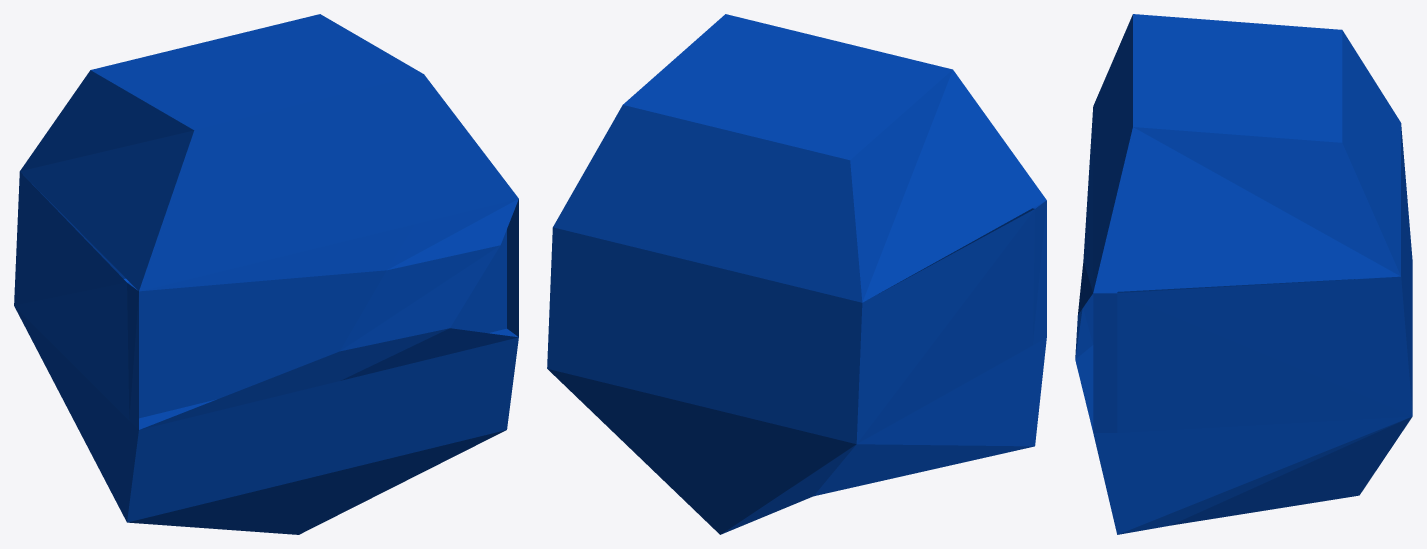
Rendered from head.dae.
3 views of the same model, side by side, from view 1: azimuth 30°, elevation 25°; view 2: azimuth 150°, elevation 25°; view 3: azimuth 270°, elevation 25° (orthographic).
Visible parts, largest first — view 1: Cube; view 2: Cube; view 3: Cube.
Boxes of the visible parts, x1,y1,x2,y2 form: Cube: [14, 14, 518, 534]; Cube: [547, 14, 1046, 534]; Cube: [1075, 14, 1412, 534].
Bounding box in the file's own units: 2.21 × 1.69 × 2.49.
